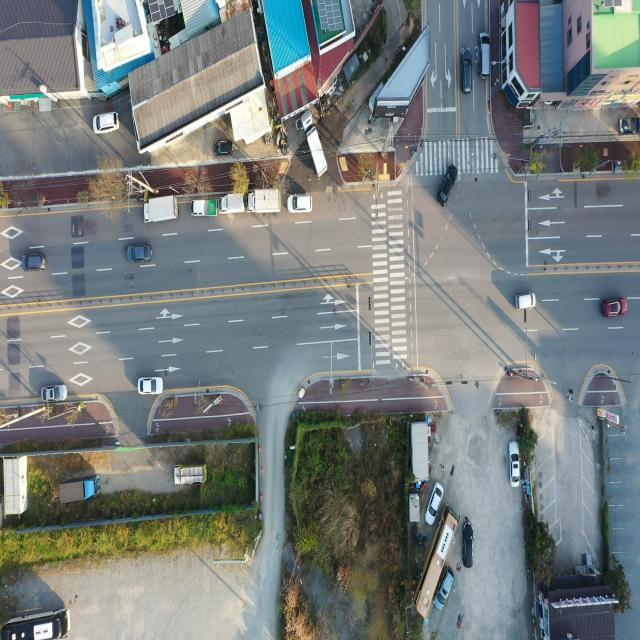car: (439, 158, 458, 211), (434, 566, 456, 606), (460, 516, 475, 568), (478, 30, 491, 87), (426, 484, 443, 524), (94, 111, 120, 133), (461, 50, 472, 94), (603, 300, 627, 320), (287, 195, 312, 214), (510, 441, 520, 487), (138, 377, 162, 396), (128, 244, 152, 263), (44, 384, 68, 402), (215, 137, 235, 157), (26, 253, 47, 271), (515, 292, 534, 310)
large_bus: (414, 508, 459, 618), (1, 606, 70, 640)
medium_truck: (58, 469, 102, 508), (302, 121, 328, 180), (144, 195, 180, 225), (248, 189, 282, 214)
small_truck: (173, 460, 209, 485), (217, 190, 246, 214), (190, 193, 217, 217)
